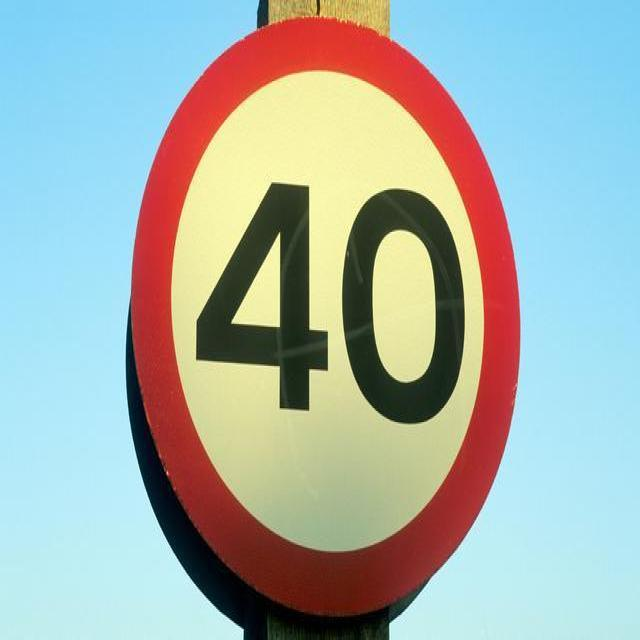speed limit 40: (132, 19, 520, 618)
